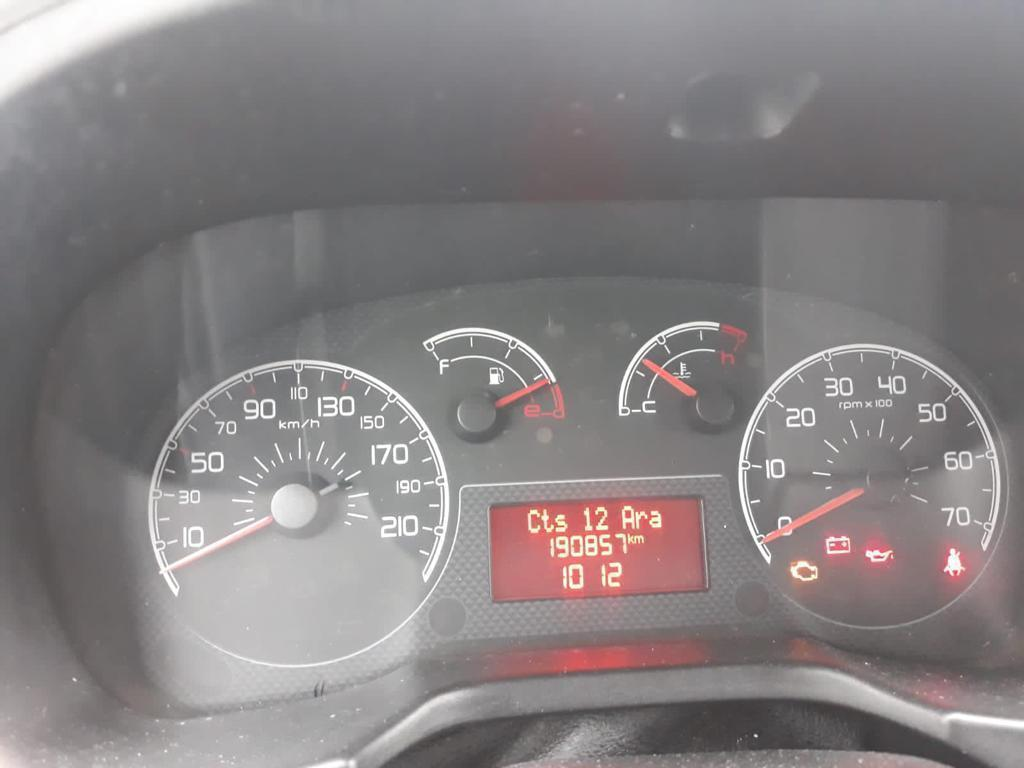0: (568, 563, 584, 590), (569, 534, 583, 557)
1: (583, 504, 593, 531), (561, 563, 568, 591), (599, 562, 606, 588), (549, 535, 555, 558)
2: (607, 561, 623, 588), (594, 505, 609, 530)
5: (598, 533, 613, 556)
7: (614, 532, 627, 555)
8: (584, 533, 598, 557)
9: (555, 535, 568, 558)
X: (526, 508, 540, 534), (540, 508, 554, 534), (621, 505, 635, 529), (554, 511, 568, 533), (649, 510, 662, 529), (635, 511, 647, 528), (634, 534, 645, 545), (627, 532, 633, 545)
odometer: (485, 492, 711, 604)
